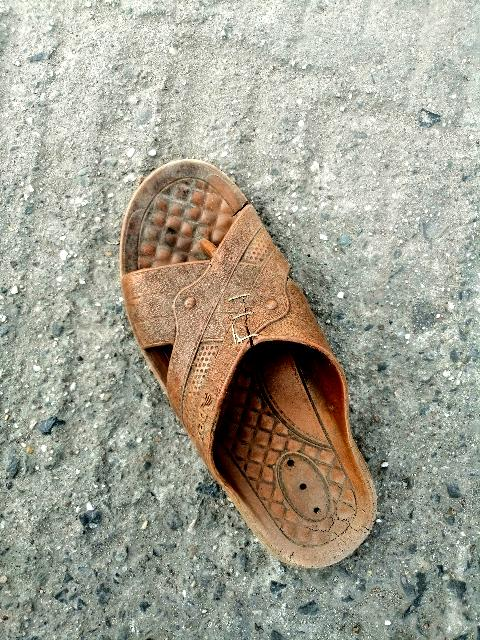sandal: (85, 145, 412, 606)
